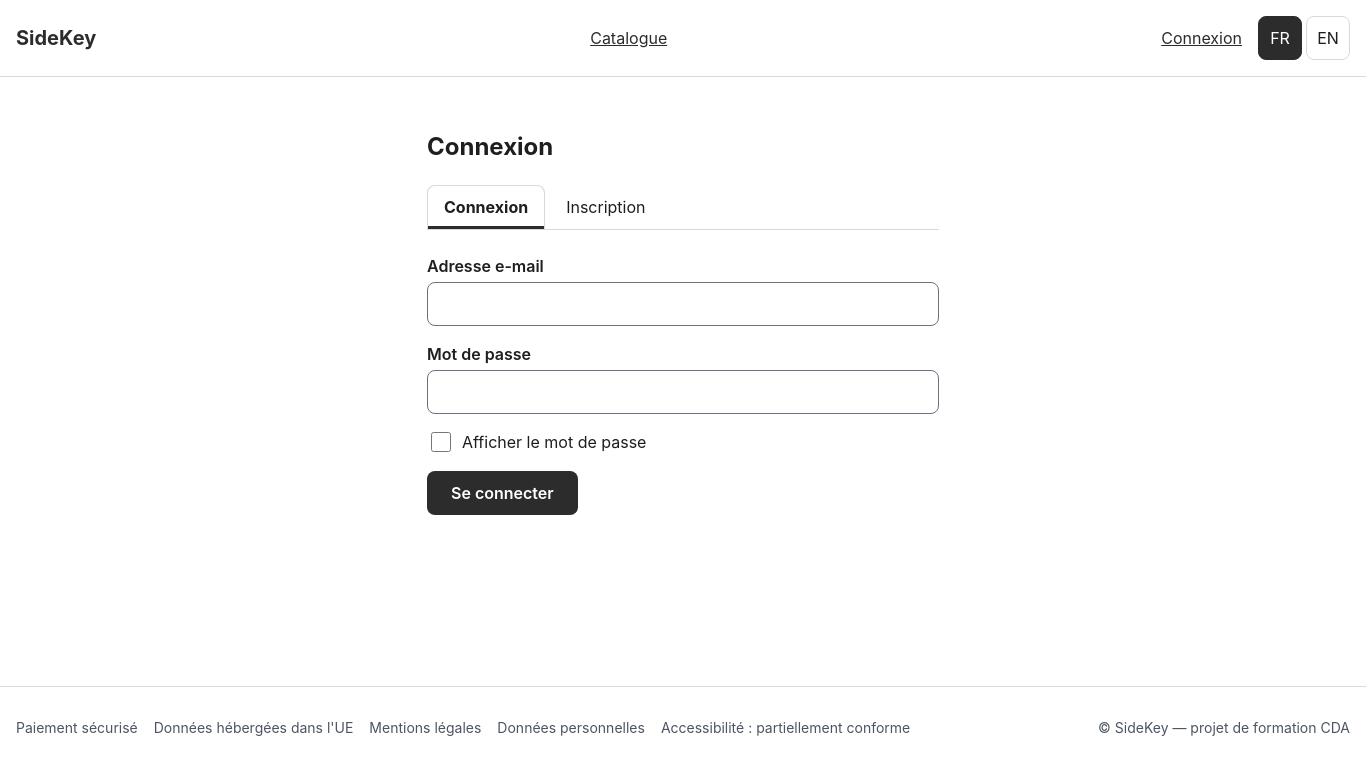
Test: étape « code » › un code valide ouvre la session avec le jeton intermédiaire en en-tête, puis redirige
Type "karim@example.test" into the field labelled "Adresse e-mail" at (683, 304), box x1=427 y1=282 x2=939 y2=326
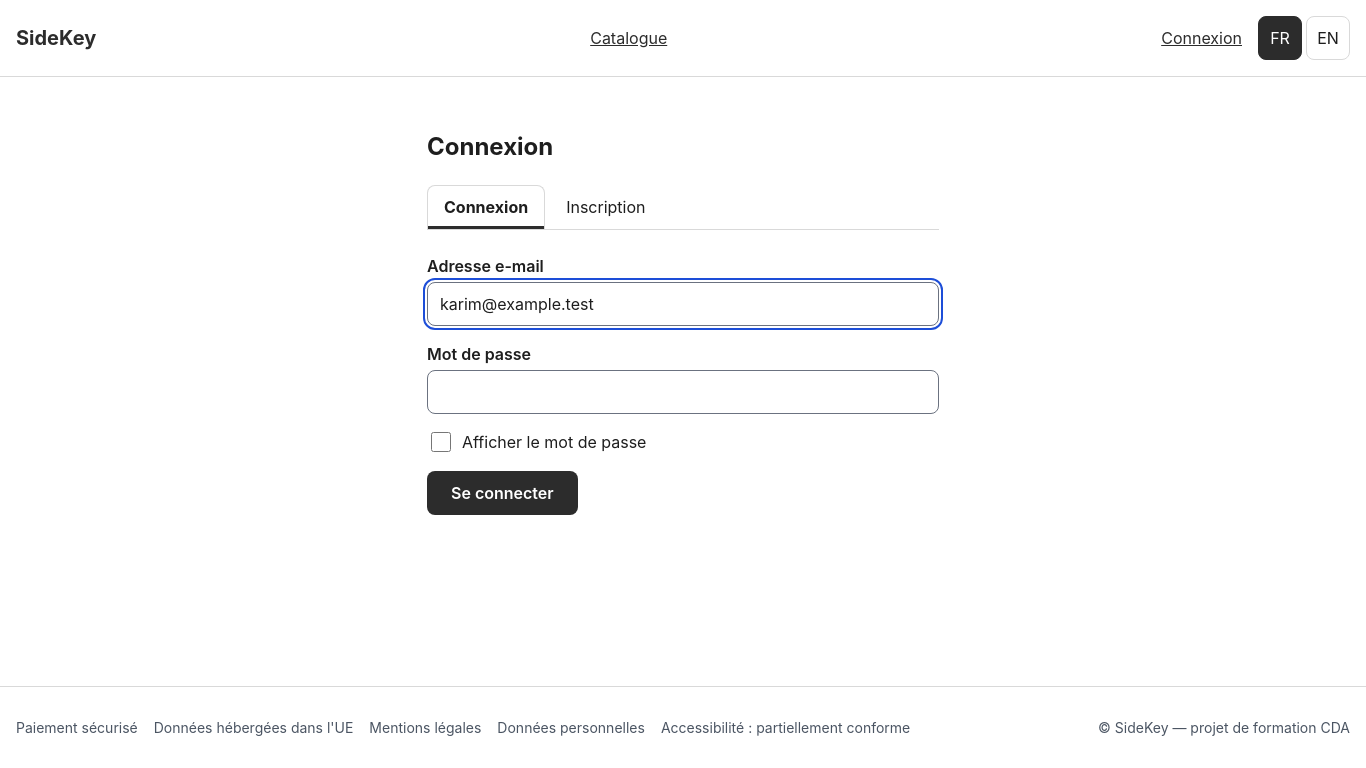
Type "une phrase de passe solide" into the password field labelled "Mot de passe" at (683, 392), box x1=427 y1=370 x2=939 y2=414
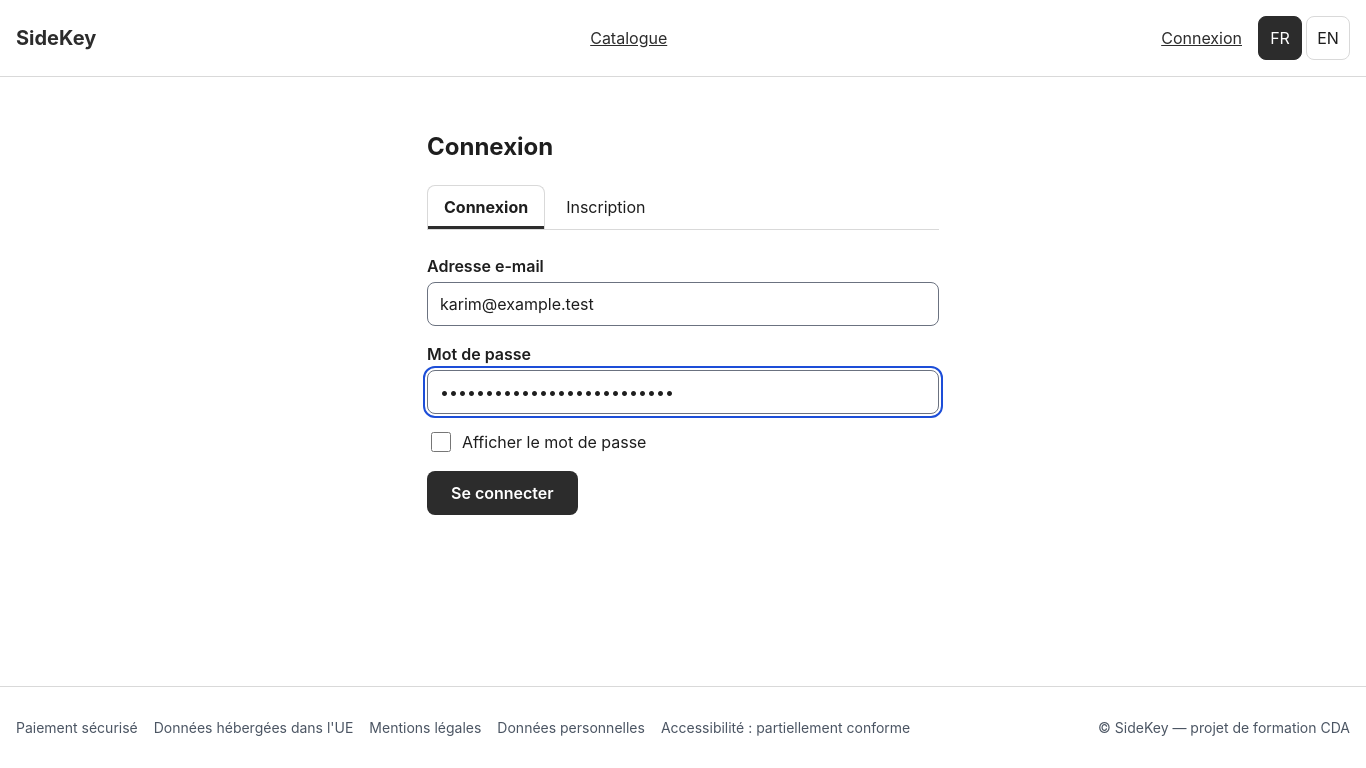
Click the button "Se connecter" at (502, 493), box x1=427 y1=471 x2=578 y2=515
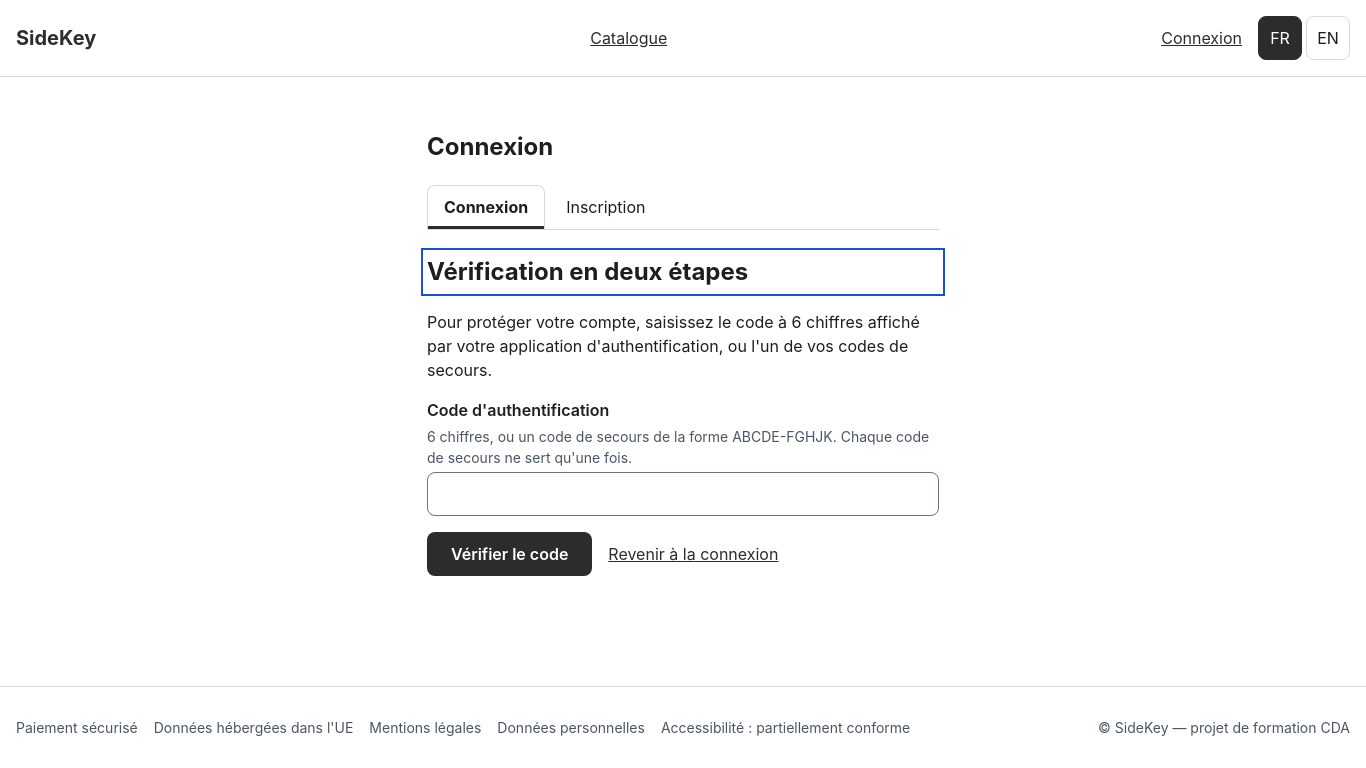
Check: the heading "Vérification en deux étapes" is shown, box x1=427 y1=257 x2=748 y2=286
Type "123456" into the field labelled "Code d'authentification" at (683, 494), box x1=427 y1=472 x2=939 y2=516
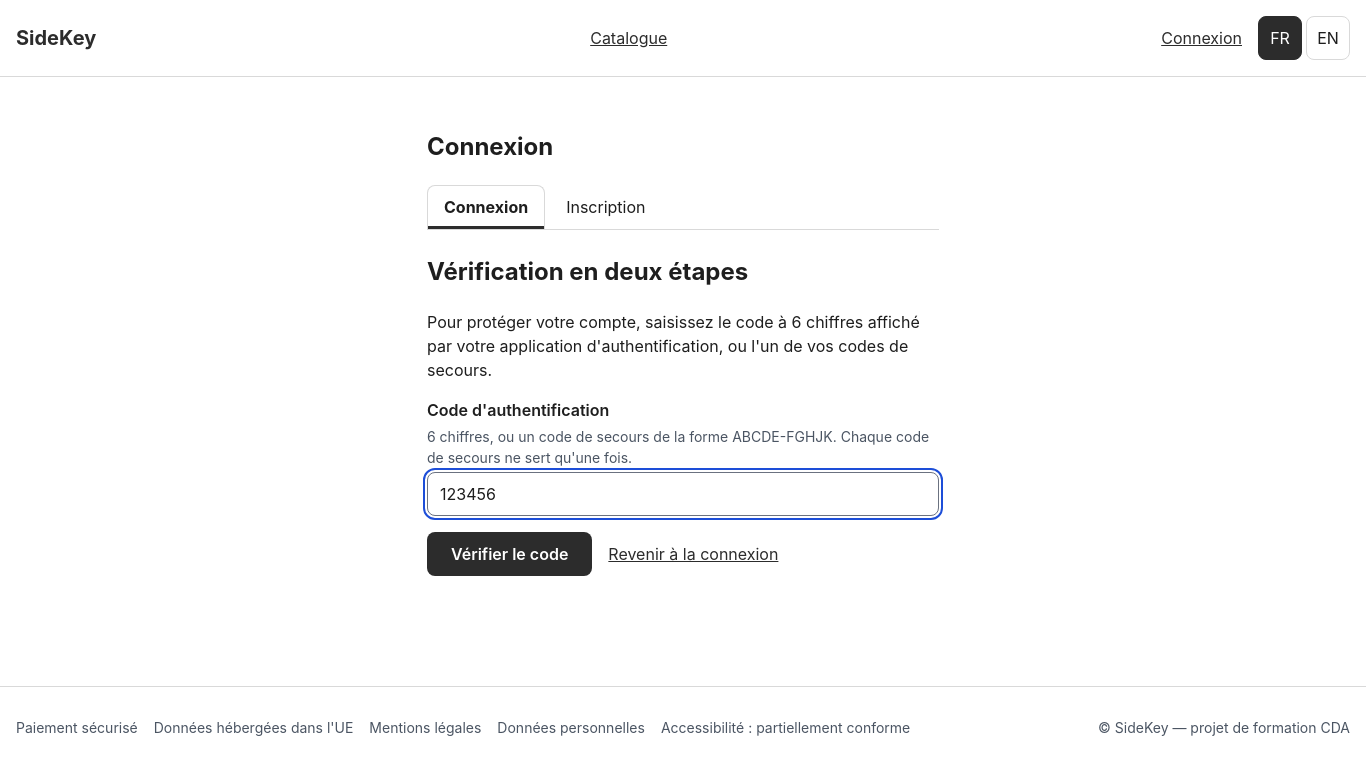
Click the button "Vérifier le code" at (510, 554), box x1=427 y1=532 x2=592 y2=576
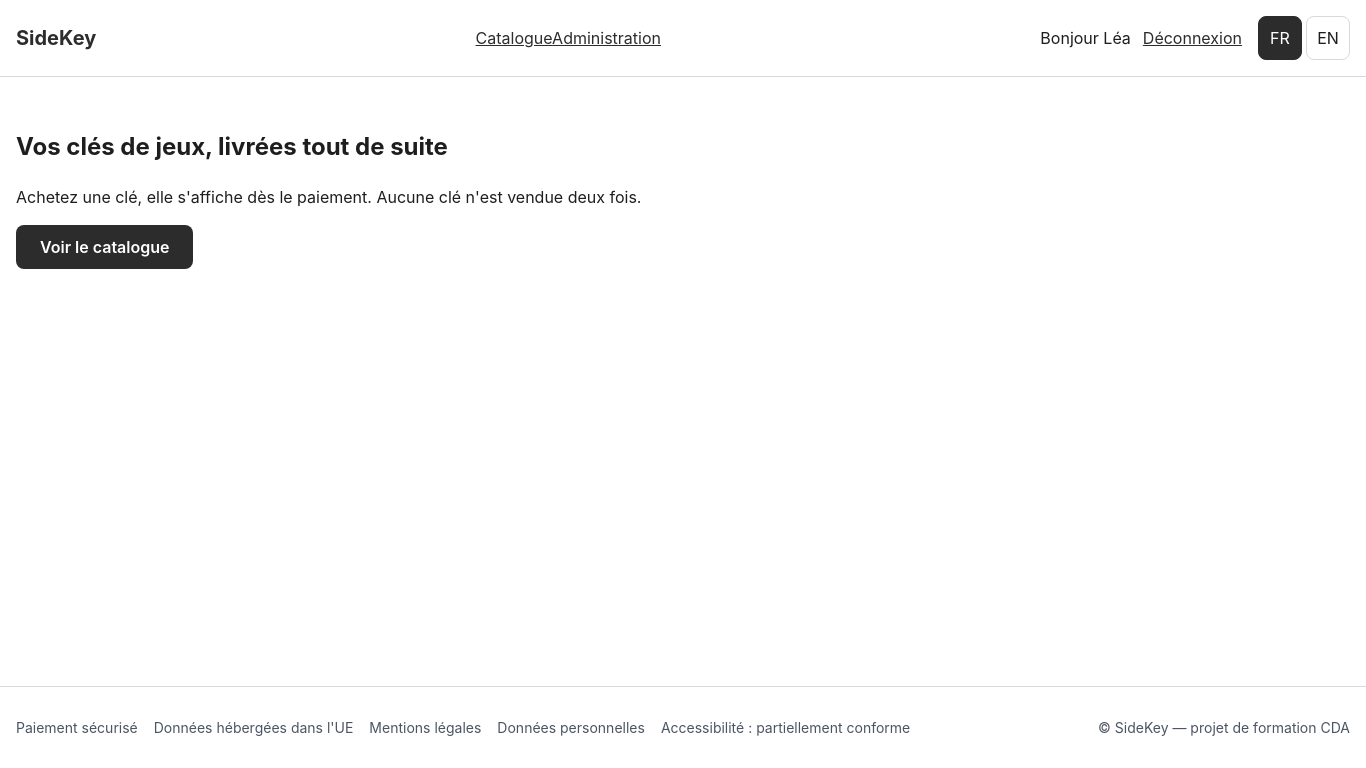
Check: the text "Bonjour Léa" is shown, box x1=1040 y1=26 x2=1131 y2=50
